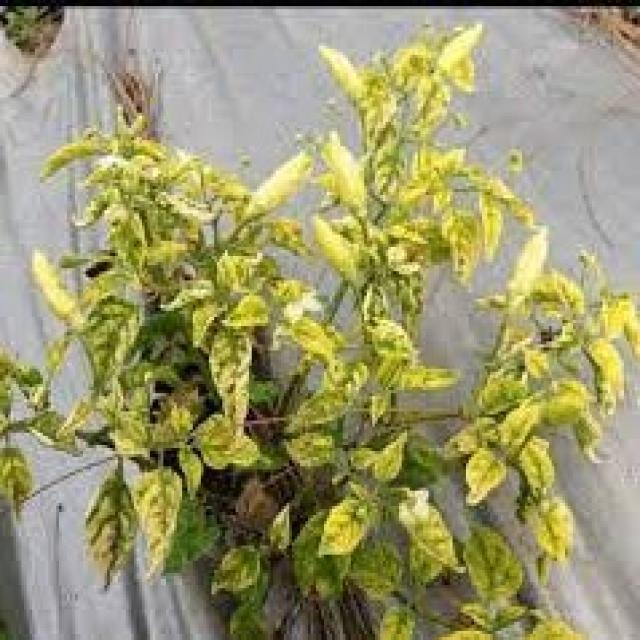virus_kuning: (128, 458, 190, 588), (399, 500, 469, 574), (436, 198, 489, 290), (317, 488, 376, 568), (459, 438, 512, 518)
